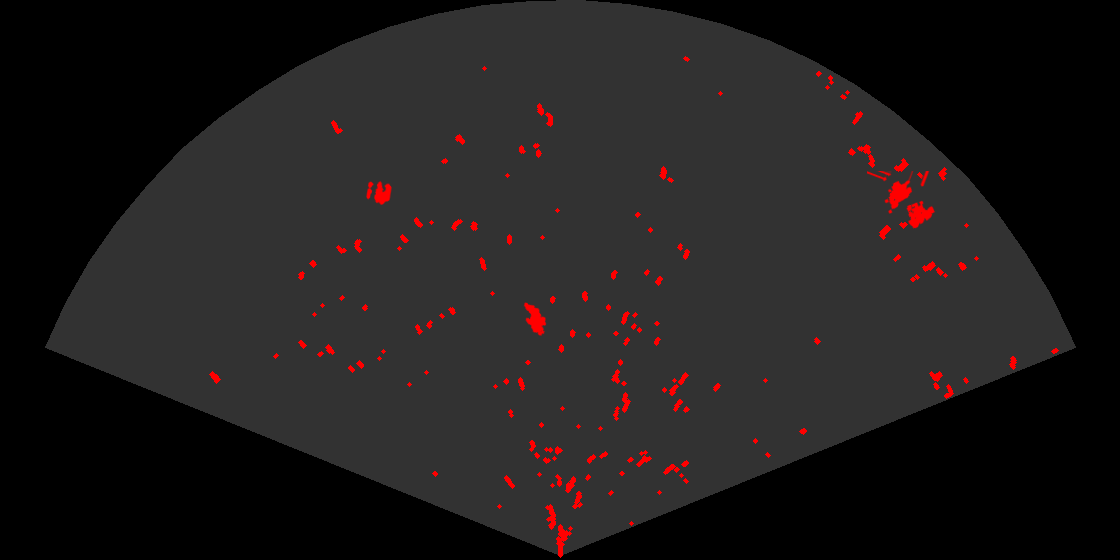AUV: (522, 301, 548, 338)
ball: (365, 179, 393, 206)
cage: (867, 171, 937, 230)
